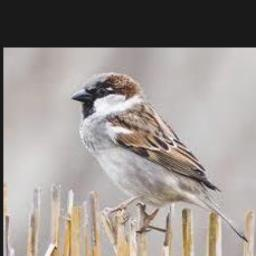Sparrow: (70, 71, 249, 242)
